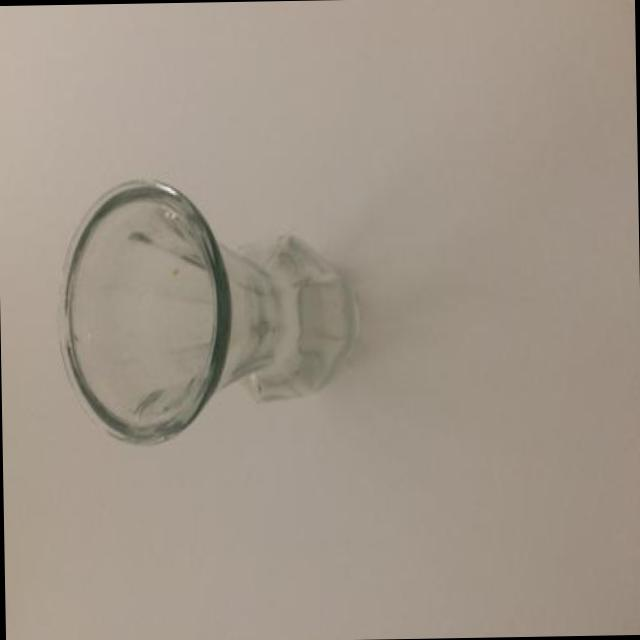chai_thuy_tinh: (55, 176, 357, 446)
